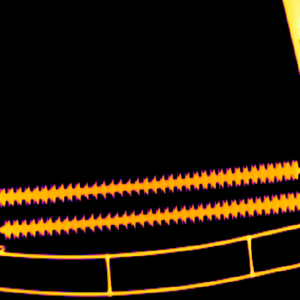insulator: (0, 160, 299, 237)
